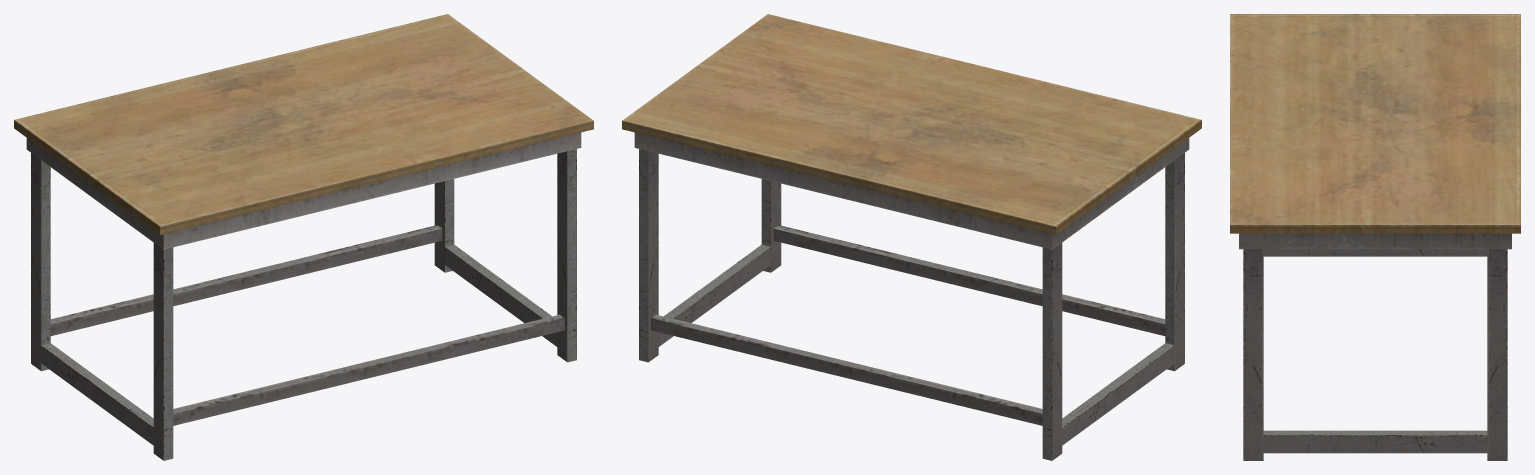
Rendered from Prop_Zz002.glb.
3 renders of one model, left to right at view 1: azimuth 30°, elevation 25°; view 2: azimuth 150°, elevation 25°; view 3: azimuth 270°, elevation 25°, orthographic.
Visible parts, largest first — view 1: xiutz_zz_002; view 2: xiutz_zz_002; view 3: xiutz_zz_002.
Boxes of the visible parts, x1,y1,x2,y2 form: xiutz_zz_002: (14,14,593,460); xiutz_zz_002: (622,14,1201,460); xiutz_zz_002: (1230,14,1520,460).
Bounding box in the file's own units: 2.12 × 1.13 × 1.23.
1 material, 1 textured.
